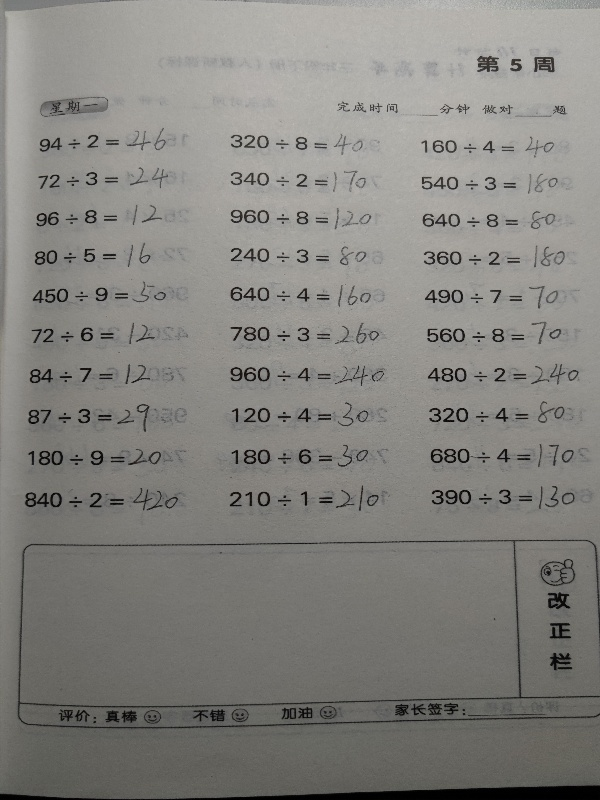equation: (226, 280, 389, 315), (229, 321, 392, 354), (223, 483, 384, 516), (22, 484, 188, 516), (427, 479, 582, 513), (423, 314, 569, 350), (227, 243, 369, 279), (24, 400, 160, 436), (429, 359, 589, 389), (419, 242, 578, 272), (428, 440, 578, 470), (35, 162, 171, 195), (230, 442, 378, 472), (32, 203, 185, 232), (23, 443, 170, 473), (27, 319, 169, 350), (35, 128, 180, 158), (228, 362, 388, 389), (227, 204, 375, 233), (228, 167, 370, 196), (229, 404, 381, 431), (418, 170, 562, 198), (228, 130, 367, 159), (28, 281, 170, 309), (418, 133, 559, 161), (32, 241, 163, 271), (419, 207, 559, 234), (422, 281, 563, 307), (427, 402, 572, 427), (25, 362, 159, 388)
